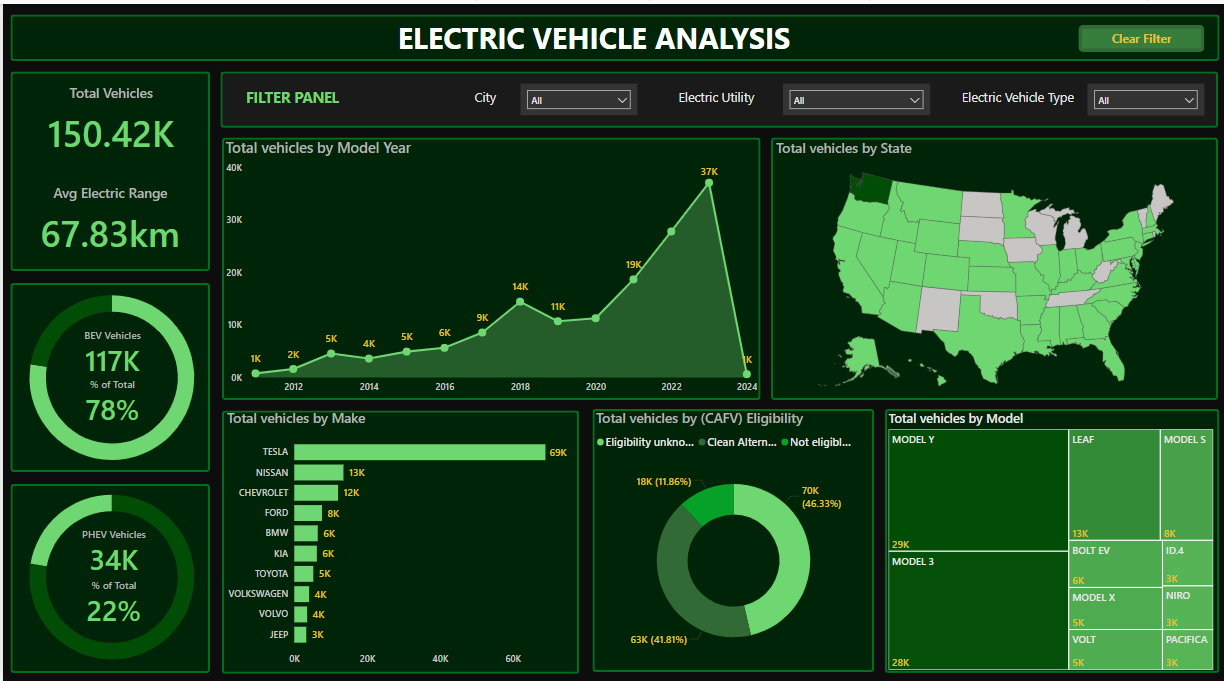

The dashboard page shown, as its layout file describes it:
{"tool":"powerbi","page":{"name":"Page 1","canvas":[1800,1000],"ordinal":0},"visuals":[{"type":"shape","box":[11,15.5,1780.6,68.5],"z":0},{"type":"shape","box":[11,99.4,293.8,293.8],"z":1000},{"type":"shape","box":[11,706.9,293.8,278.4],"z":2000},{"type":"shape","box":[11,410.9,293.8,278.4],"z":3000},{"type":"card","title":"Total Vehicles","fields":{"Values":["Electric_Vehicle_Population_Data.Total vehicles"]},"box":[17.7,117.1,282.8,114.9],"z":4000},{"type":"card","title":"Avg Electric Range","fields":{"Values":["Electric_Vehicle_Population_Data.Avg Electric Range"]},"box":[17.7,265.1,280.6,112.7],"z":5000},{"type":"donutChart","fields":{"Category":["Electric_Vehicle_Population_Data.Electric Vehicle Type"],"Y":["Electric_Vehicle_Population_Data.Total vehicles"]},"box":[0,393.2,320.3,313.7],"z":6000},{"type":"card","title":"BEV Vehicles","fields":{"Values":["Electric_Vehicle_Population_Data.BEV Vehicles"]},"box":[53,477.2,216.5,72.9],"z":7000},{"type":"card","title":"% of Total","fields":{"Values":["Electric_Vehicle_Population_Data.BEV Vehicle %"]},"box":[53,550.1,216.5,72.9],"z":8000},{"type":"card","title":"PHEV Vehicles","fields":{"Values":["Electric_Vehicle_Population_Data.PHEV Vehicles"]},"box":[55.2,771,216.5,72.9],"z":9000},{"type":"card","title":"% of Total","fields":{"Values":["Electric_Vehicle_Population_Data.PHEV Vehicle %"]},"box":[55.2,846.1,216.5,72.9],"z":10000},{"type":"donutChart","fields":{"Category":["Electric_Vehicle_Population_Data.Electric Vehicle Type"],"Y":["Electric_Vehicle_Population_Data.Total vehicles"]},"box":[0,686.5,320.2,313.5],"z":11000},{"type":"shape","box":[322.5,196.6,793.1,386.6],"z":12000},{"type":"shape","box":[320.3,99.4,1469.1,83],"z":13000},{"type":"shape","box":[321.6,597.9,526.2,388],"z":14000},{"type":"areaChart","fields":{"Y":["Electric_Vehicle_Population_Data.Total vehicles"],"Category":["Electric_Vehicle_Population_Data.Model Year"]},"box":[322.5,196.6,793.1,386.6],"z":15000},{"type":"shape","box":[1131.1,196.6,658.3,386.6],"z":16000},{"type":"shapeMap","fields":{"Category":["Electric_Vehicle_Population_Data.State"],"Value":["Electric_Vehicle_Population_Data.Total vehicles"]},"box":[1133.3,198.8,658.3,386.6],"z":17000},{"type":"barChart","fields":{"Category":["Electric_Vehicle_Population_Data.Make"],"Y":["Electric_Vehicle_Population_Data.Total vehicles"]},"box":[325,597.5,522.5,387.5],"z":18000},{"type":"shape","box":[867.5,597.5,415,387.5],"z":19000},{"type":"shape","box":[1299,596.5,492.6,388.8],"z":20000},{"type":"donutChart","title":"Total vehicles by (CAFV) Eligibility","fields":{"Y":["Electric_Vehicle_Population_Data.Total vehicles"],"Category":["Electric_Vehicle_Population_Data.Clean Alternative Fuel Vehicle (CAFV) Eligibility"]},"box":[867.5,597.5,415,387.5],"z":21000},{"type":"treemap","fields":{"Group":["Electric_Vehicle_Population_Data.Model"],"Values":["Electric_Vehicle_Population_Data.Total vehicles"]},"box":[1299,596.5,488.2,388.8],"z":22000},{"type":"textbox","box":[322.5,117.1,207.7,42],"z":23000},{"type":"slicer","fields":{"Values":["Electric_Vehicle_Population_Data.City"]},"box":[762.2,117.1,172.3,46.4],"z":24000},{"type":"slicer","fields":{"Values":["Electric_Vehicle_Population_Data.Electric Utility"]},"box":[1148.8,117.1,216.5,46.4],"z":24001},{"type":"slicer","fields":{"Values":["Electric_Vehicle_Population_Data.Electric Vehicle Type"]},"box":[1597.2,117.1,172.3,47],"z":24002},{"type":"textbox","box":[1391.8,119.3,205.5,64.1],"z":24003},{"type":"textbox","box":[967.6,119.3,165.7,64.1],"z":24004},{"type":"textbox","box":[645.1,119.3,130.3,64.1],"z":24005},{"type":"textbox","box":[121.5,15.5,1497.8,68.5],"z":24006},{"type":"actionButton","box":[1584,30.9,185.6,39.8],"z":24007}]}

Visuals, with their boxes in screenshot pixels (x1, y1, x2, y2), scaled from the page's 1800x1000 canvas onto the 1224x681 screenshot:
shape: BBox(7, 11, 1218, 57)
shape: BBox(7, 68, 207, 268)
shape: BBox(7, 481, 207, 671)
shape: BBox(7, 280, 207, 469)
"Total Vehicles" card: BBox(12, 80, 204, 158)
"Avg Electric Range" card: BBox(12, 181, 203, 257)
donutChart - Electric_Vehicle_Population_Data.Electric Vehicle Type x Electric_Vehicle_Population_Data.Total vehicles: BBox(0, 268, 218, 481)
"BEV Vehicles" card: BBox(36, 325, 183, 375)
"% of Total" card: BBox(36, 375, 183, 424)
"PHEV Vehicles" card: BBox(38, 525, 185, 575)
"% of Total" card: BBox(38, 576, 185, 626)
donutChart - Electric_Vehicle_Population_Data.Electric Vehicle Type x Electric_Vehicle_Population_Data.Total vehicles: BBox(0, 468, 218, 680)
shape: BBox(219, 134, 759, 397)
shape: BBox(218, 68, 1217, 124)
shape: BBox(219, 407, 577, 671)
areaChart - Electric_Vehicle_Population_Data.Total vehicles x Electric_Vehicle_Population_Data.Model Year: BBox(219, 134, 759, 397)
shape: BBox(769, 134, 1217, 397)
shapeMap - Electric_Vehicle_Population_Data.State x Electric_Vehicle_Population_Data.Total vehicles: BBox(771, 135, 1218, 399)
barChart - Electric_Vehicle_Population_Data.Make x Electric_Vehicle_Population_Data.Total vehicles: BBox(221, 407, 576, 671)
shape: BBox(590, 407, 872, 671)
shape: BBox(883, 406, 1218, 671)
"Total vehicles by (CAFV) Eligibility" donutChart: BBox(590, 407, 872, 671)
treemap - Electric_Vehicle_Population_Data.Model x Electric_Vehicle_Population_Data.Total vehicles: BBox(883, 406, 1215, 671)
textbox: BBox(219, 80, 361, 108)
slicer - Electric_Vehicle_Population_Data.City: BBox(518, 80, 635, 111)
slicer - Electric_Vehicle_Population_Data.Electric Utility: BBox(781, 80, 928, 111)
slicer - Electric_Vehicle_Population_Data.Electric Vehicle Type: BBox(1086, 80, 1203, 112)
textbox: BBox(946, 81, 1086, 125)
textbox: BBox(658, 81, 771, 125)
textbox: BBox(439, 81, 527, 125)
textbox: BBox(83, 11, 1101, 57)
actionButton: BBox(1077, 21, 1203, 48)
